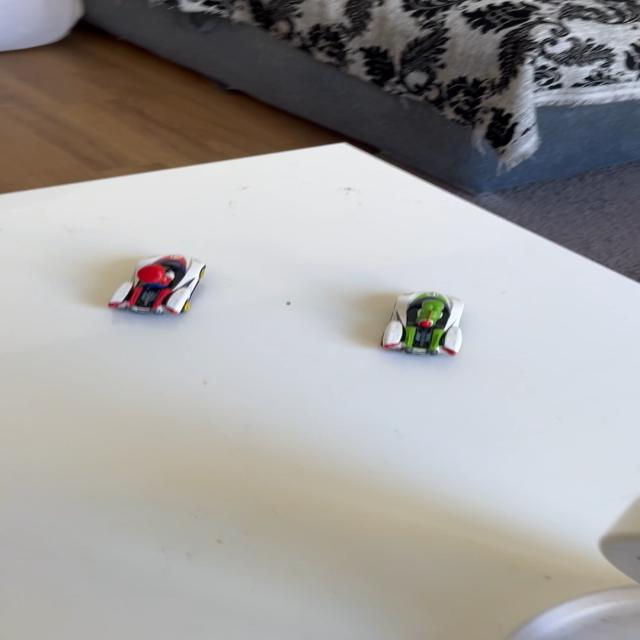mario: (89, 248, 221, 325)
yoshi: (361, 284, 475, 364)
